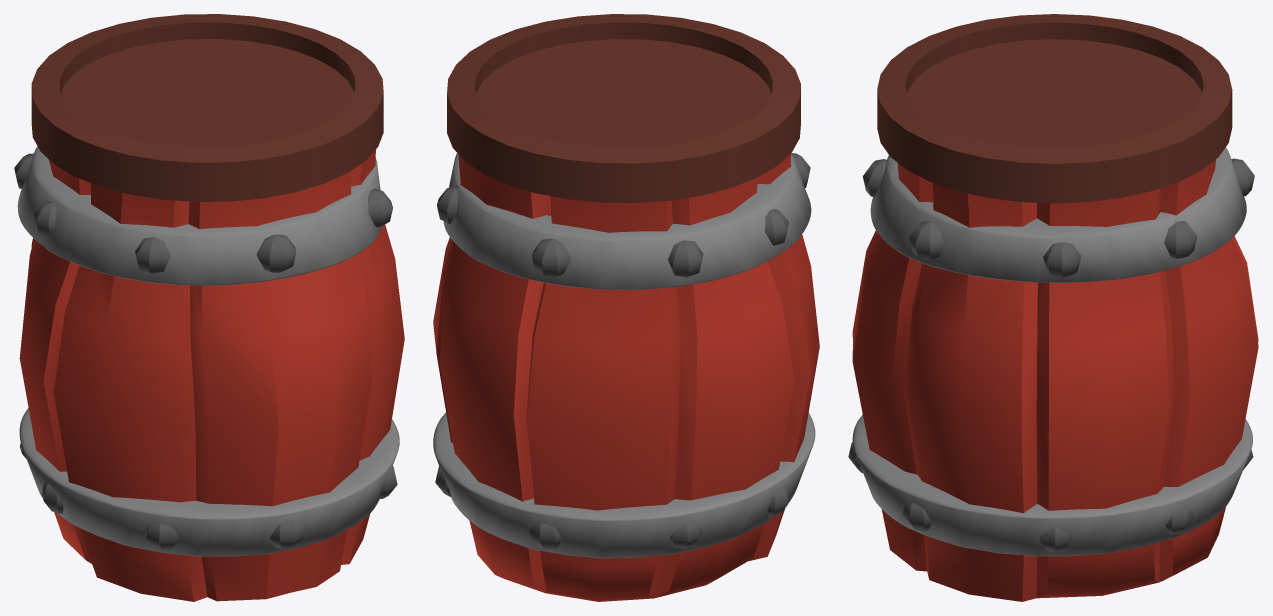
File: barile esplosivo.fbx
3 views of the same model, side by side, from view 1: azimuth 30°, elevation 25°; view 2: azimuth 150°, elevation 25°; view 3: azimuth 270°, elevation 25° (orthographic).
Visible parts, largest first — view 1: barile esplosivo; view 2: barile esplosivo; view 3: barile esplosivo.
Boxes of the visible parts, bbox=[...] form: barile esplosivo: bbox=[14, 14, 404, 601]; barile esplosivo: bbox=[433, 14, 819, 601]; barile esplosivo: bbox=[848, 14, 1258, 601].
Size of the model in its own units: 204 by 260 by 211.
